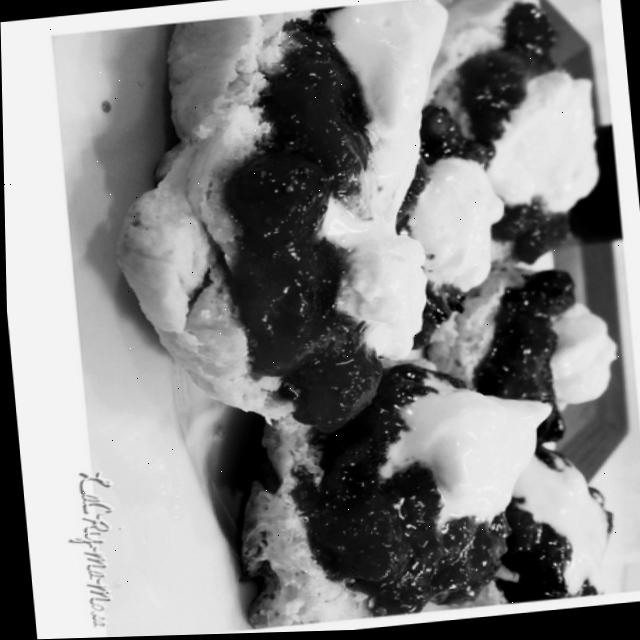蛋糕甜品: (62, 0, 640, 639)
